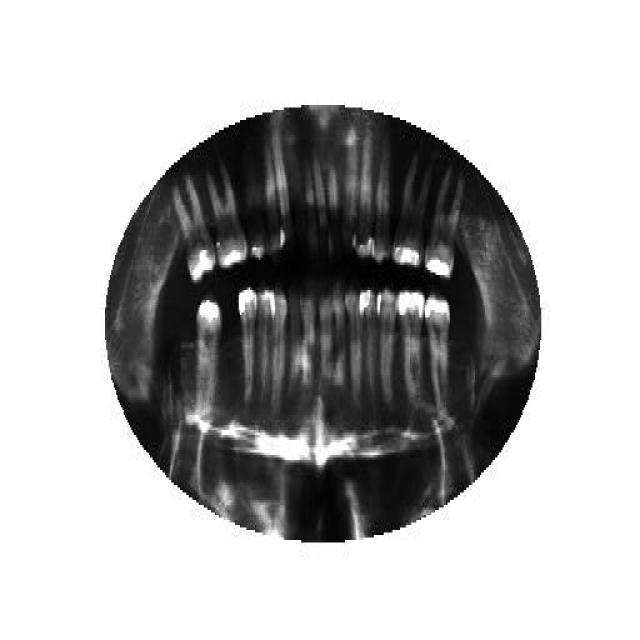Fillings: (172, 170, 216, 285), (392, 152, 432, 270), (425, 165, 464, 283), (395, 288, 429, 402), (194, 298, 222, 428), (425, 292, 450, 410), (238, 287, 258, 405)
